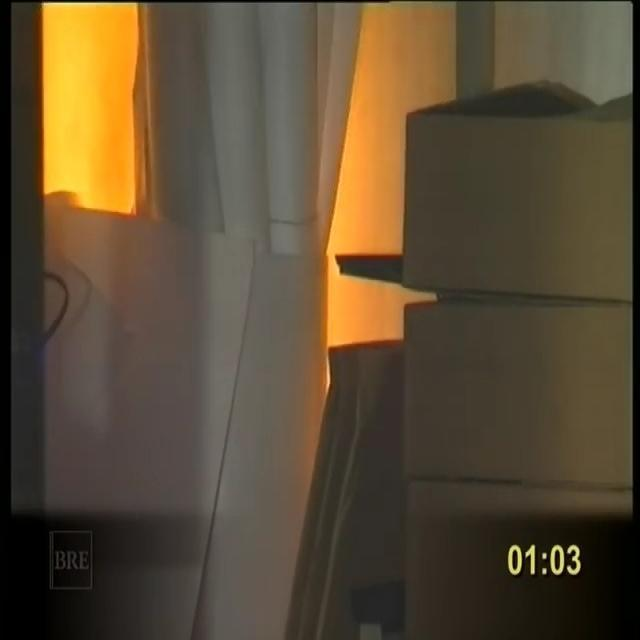Fire: (40, 10, 132, 194)
